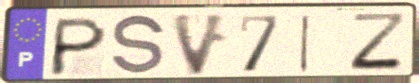7: (238, 14, 281, 75)
I: (297, 13, 314, 74)
P: (46, 16, 111, 78)
S: (109, 12, 169, 79)
V: (168, 12, 232, 78)
Z: (348, 11, 410, 73)
